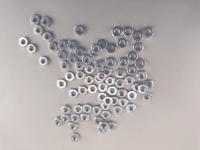nut: (143, 27, 154, 39), (117, 38, 128, 50), (106, 43, 117, 54), (75, 46, 86, 57), (112, 27, 122, 38), (123, 27, 134, 37), (133, 31, 143, 42), (128, 52, 138, 63), (127, 66, 138, 76), (97, 39, 107, 50), (137, 71, 148, 81), (125, 76, 136, 86), (144, 79, 154, 90), (138, 84, 149, 94), (116, 68, 126, 79), (75, 25, 85, 36), (91, 44, 102, 54), (74, 61, 85, 71), (48, 42, 58, 53), (19, 37, 30, 47), (115, 78, 126, 88), (136, 59, 146, 69), (119, 58, 129, 68), (106, 58, 116, 68), (95, 60, 105, 70), (67, 40, 77, 50), (82, 55, 92, 65), (30, 14, 40, 24), (43, 32, 53, 42), (58, 40, 68, 50), (39, 56, 49, 66), (27, 44, 37, 54), (57, 79, 67, 89), (69, 89, 79, 99), (53, 118, 63, 128), (98, 83, 108, 93), (102, 67, 112, 77), (70, 133, 80, 143), (78, 86, 88, 96), (127, 103, 137, 113), (128, 91, 138, 101), (117, 89, 127, 99), (113, 106, 123, 116), (92, 106, 102, 116), (133, 43, 144, 52), (40, 17, 51, 26), (98, 93, 109, 102), (101, 111, 112, 120), (142, 93, 152, 102), (90, 49, 100, 58), (88, 85, 98, 94), (34, 26, 44, 35), (57, 51, 67, 60), (60, 61, 70, 70), (65, 72, 75, 81), (76, 71, 86, 80), (85, 65, 95, 74), (85, 76, 95, 85), (97, 72, 107, 81), (83, 104, 92, 114), (108, 87, 118, 96), (106, 77, 116, 86), (104, 97, 114, 106), (119, 99, 129, 108), (107, 122, 117, 131), (62, 106, 71, 115), (74, 105, 83, 114), (71, 114, 80, 123), (61, 115, 70, 124), (69, 123, 78, 132), (81, 114, 90, 123), (100, 122, 109, 131), (97, 125, 106, 134), (101, 103, 111, 111), (94, 118, 104, 126), (95, 75, 103, 84), (133, 83, 140, 93), (111, 97, 118, 106)
